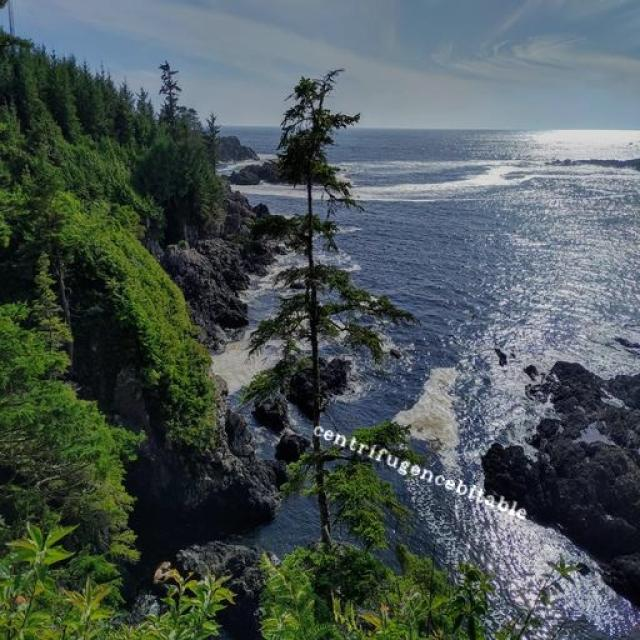watermark: (306, 418, 537, 522)
